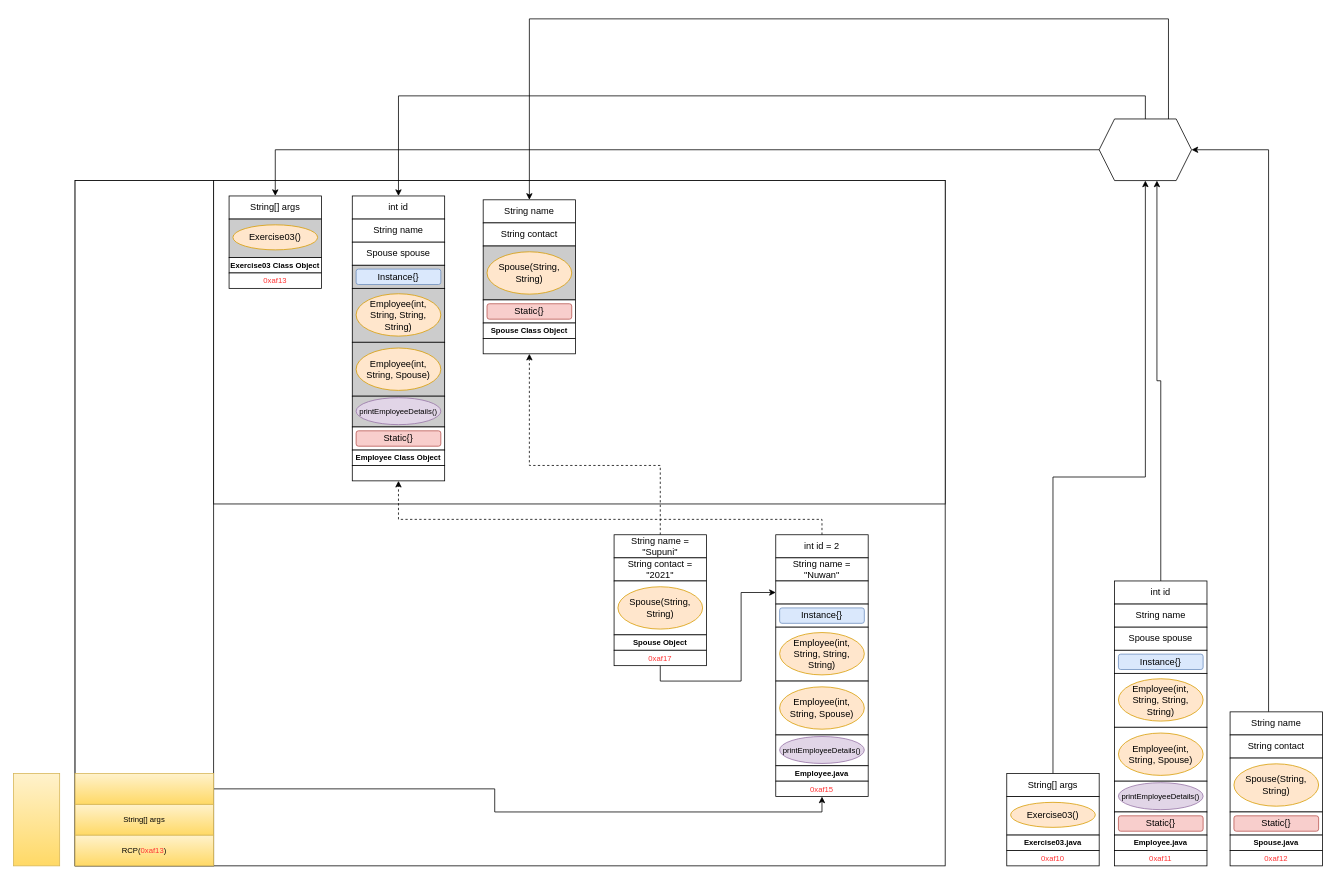
Some shapes in this 1336 by 879 pixel diagram are drawn without their labels. The centre of each missing label's shape, as x and y in pixels:
"0xaf14" goes at pixel 398 473.
"0xaf16" goes at pixel 529 346.
"Class Loader" goes at pixel 1145 149.
"Employee e001 = 0xaf15" goes at pixel 144 788.
"main()" goes at pixel 36 819.
"Spouse spouse = 0xaf17" goes at pixel 821 592.
